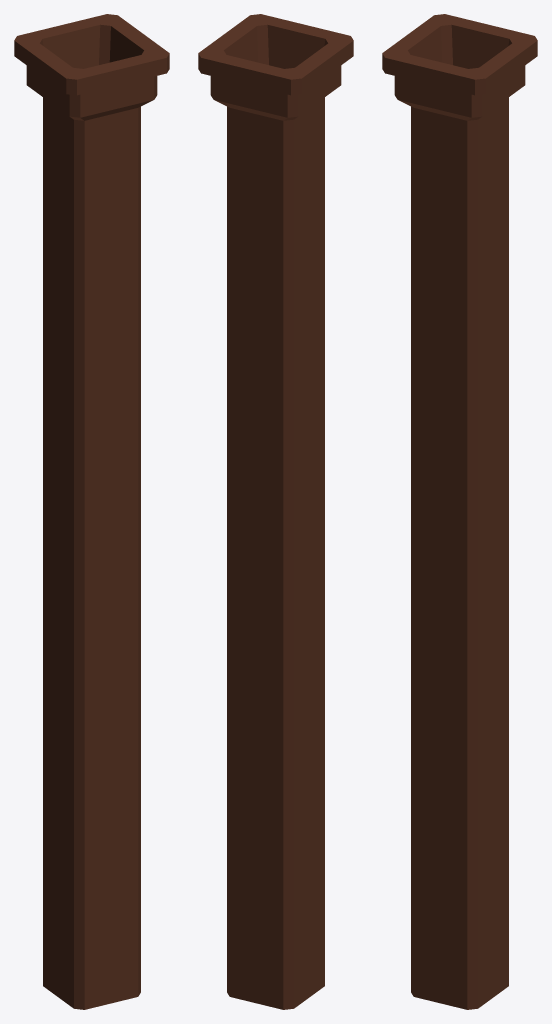
Rendered from pipe.glb.
The picture shows the model from 3 angles, left to right: view 1: azimuth 30°, elevation 25°; view 2: azimuth 150°, elevation 25°; view 3: azimuth 330°, elevation 25°; orthographic projection.
Visible parts, largest first — view 1: pipe; view 2: pipe; view 3: pipe.
Boxes of the visible parts, bbox=[...] form: pipe: bbox=[14, 14, 169, 1009]; pipe: bbox=[198, 14, 353, 1009]; pipe: bbox=[382, 14, 537, 1009].
Size of the model in its own units: 4.02 by 34.98 by 4.02.
